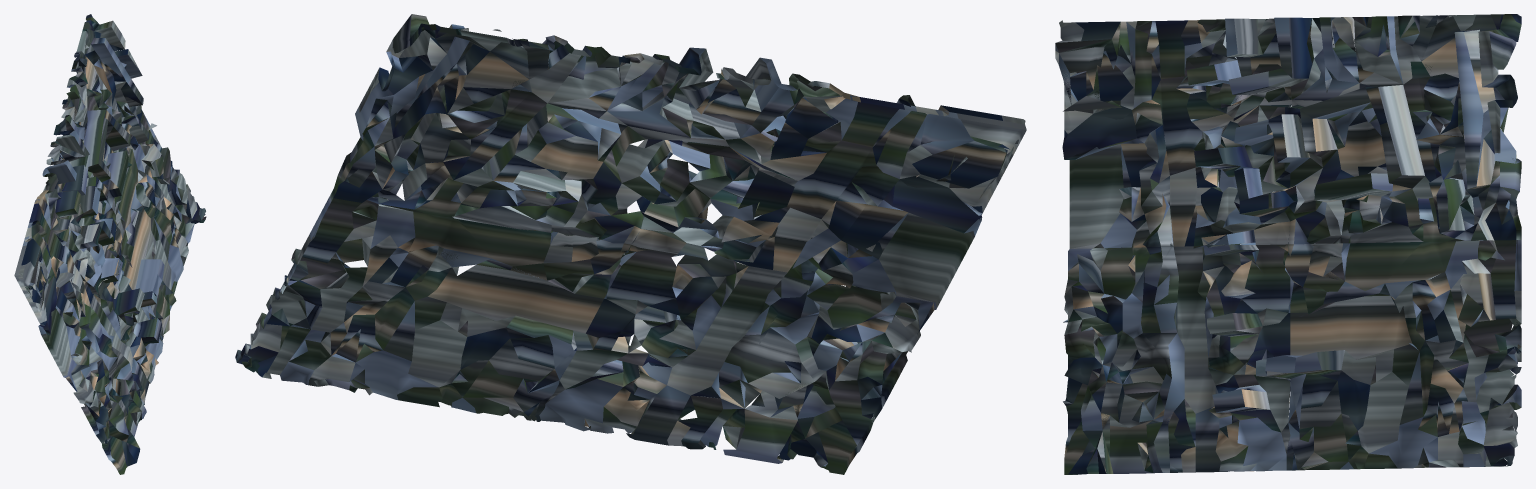
The picture shows the model from 3 angles, left to right: view 1: azimuth 30°, elevation 25°; view 2: azimuth 150°, elevation 25°; view 3: azimuth 270°, elevation 25°; orthographic projection. The views are drawn at different scales.
Visible parts, largest first — view 1: node_3043627270436151_mesh0, node_3043627270436151_mesh1; view 2: node_3043627270436151_mesh0, node_3043627270436151_mesh1; view 3: node_3043627270436151_mesh0, node_3043627270436151_mesh1.
Part boxes in pixels (left/top/right/bottom): node_3043627270436151_mesh0: left=14, top=14, right=206, bottom=474; node_3043627270436151_mesh1: left=31, top=20, right=205, bottom=429; node_3043627270436151_mesh0: left=235, top=14, right=1026, bottom=474; node_3043627270436151_mesh1: left=236, top=24, right=950, bottom=438; node_3043627270436151_mesh0: left=1055, top=14, right=1521, bottom=474; node_3043627270436151_mesh1: left=1063, top=14, right=1521, bottom=472.
Size of the model in its own units: 591 by 583 by 450.
2 materials, 2 textured.
